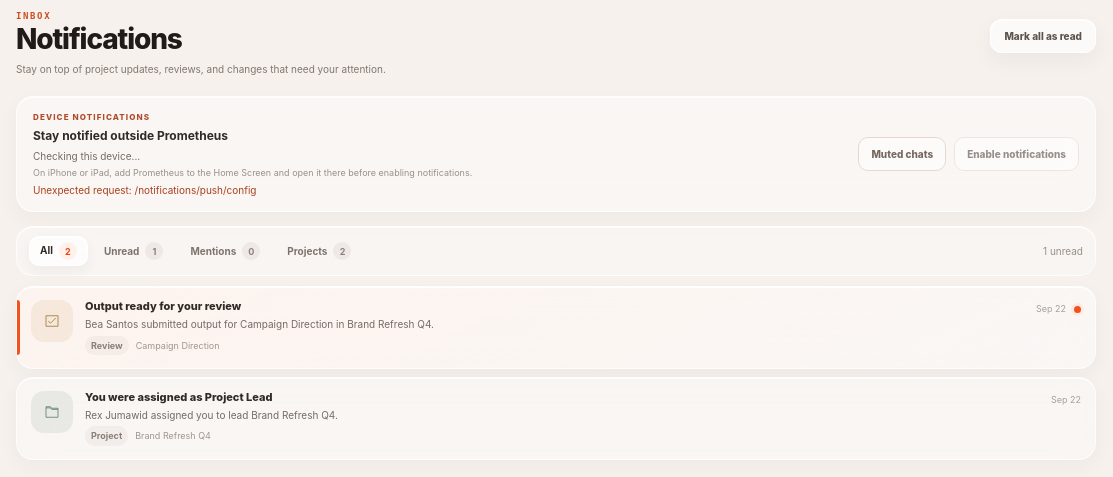
NotificationsPage › filters populated All and Unread lists with distinct unread styling
Expected: the text "1 unread" is shown, top-left (1043, 244), bottom-right (1083, 259)
Click the tab "Unread 1" at (134, 251), box top-left (93, 236), bottom-right (174, 266)
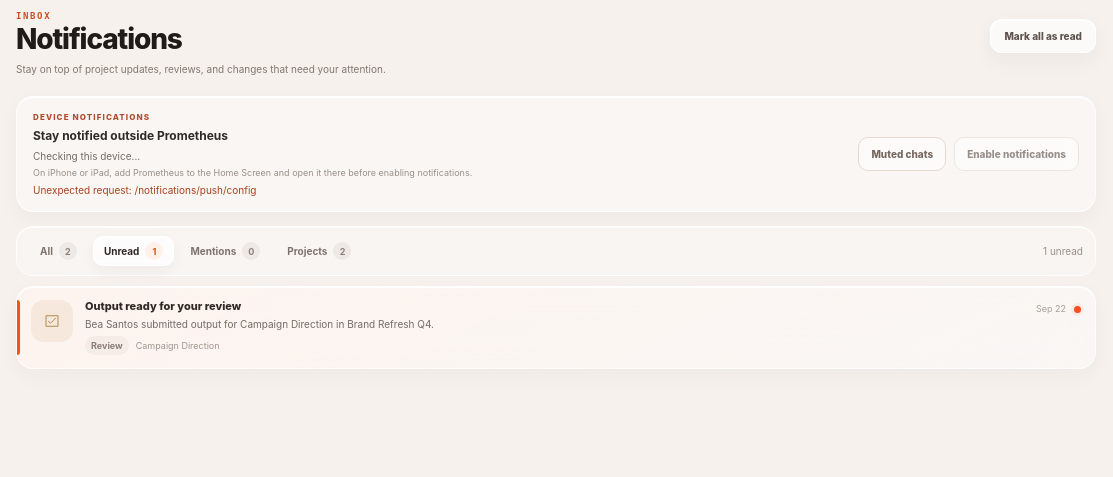
Expected: the button "Output ready for your review" is shown, top-left (16, 286), bottom-right (1096, 369)
Now the button "You were assigned as Project Lead" is gone
Click the tab "All 2" at (58, 251), box top-left (29, 236), bottom-right (88, 266)
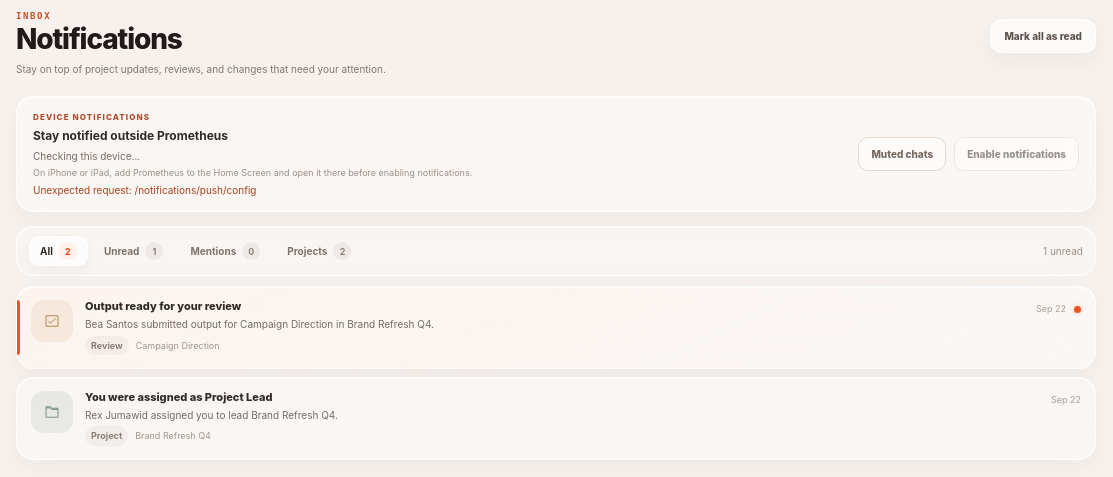
Now the button "You were assigned as Project Lead" is shown, box top-left (16, 377), bottom-right (1096, 460)
